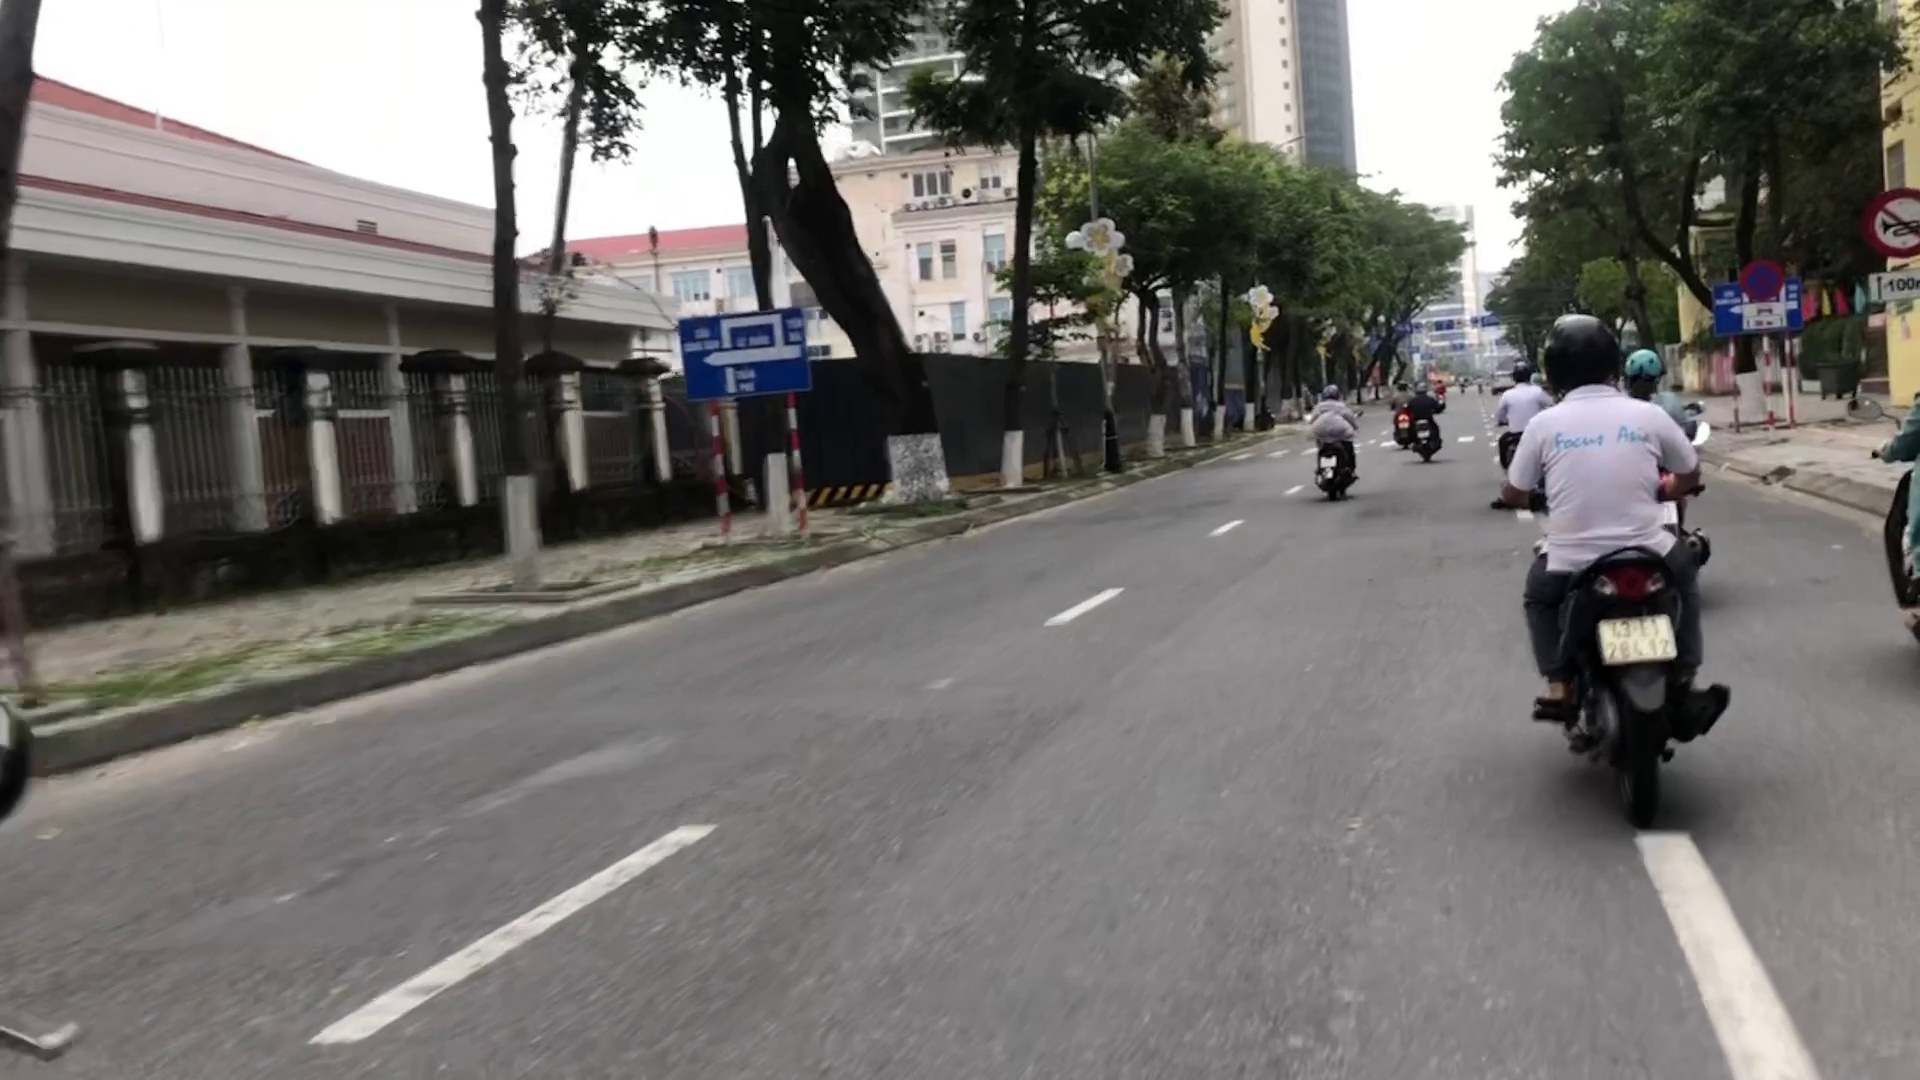Bien khac: (676, 313, 811, 392), (1869, 189, 1920, 252), (1738, 261, 1789, 302)
